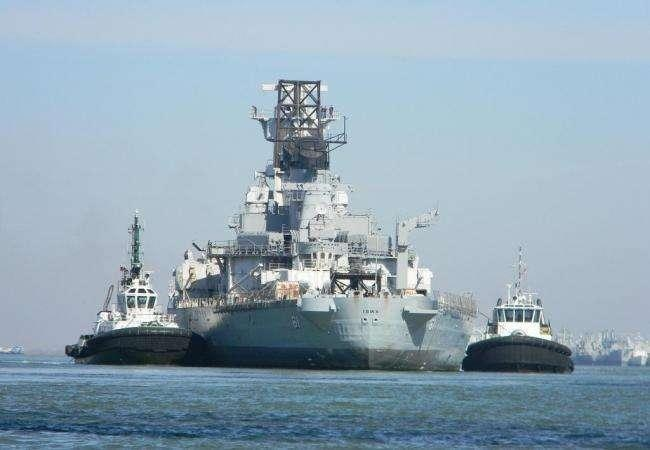otherboat: (60, 210, 191, 363), (463, 247, 571, 375)
warship: (176, 63, 465, 360)
